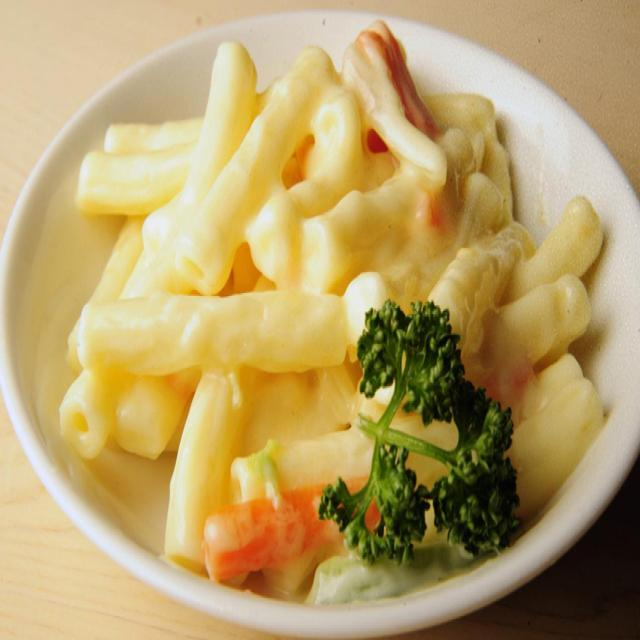蔬菜料理: (0, 7, 640, 640)
